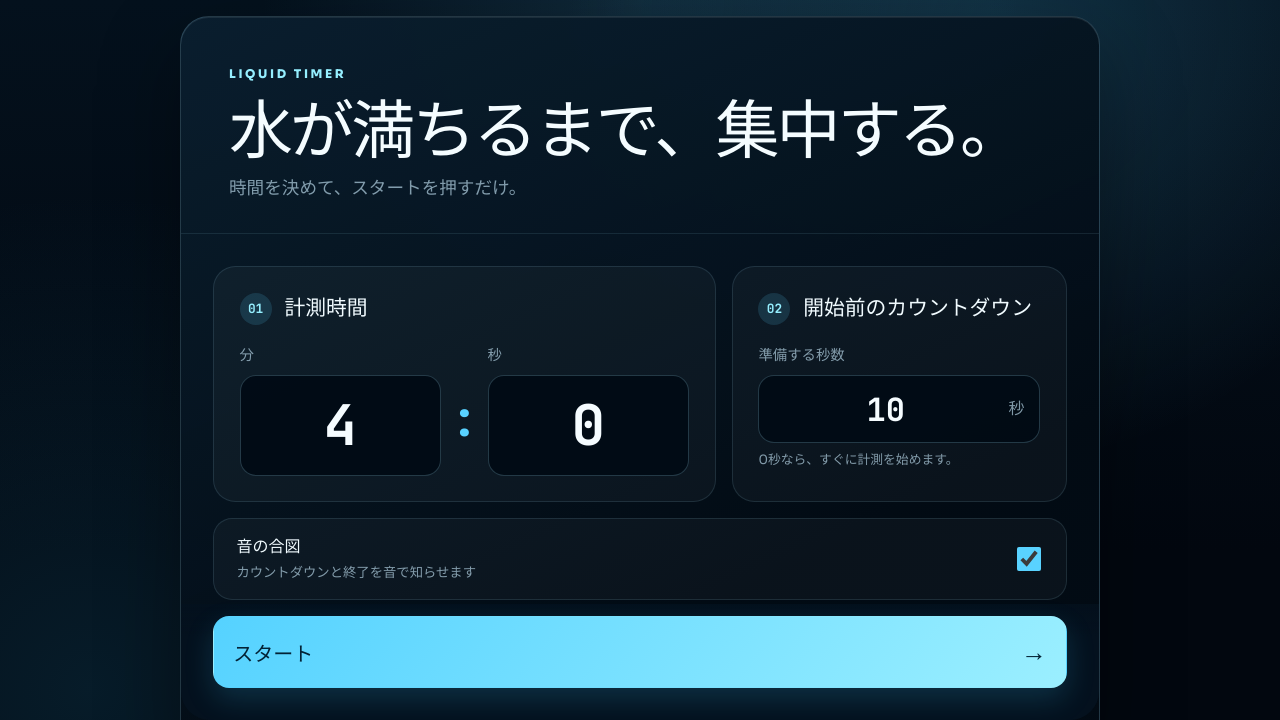
setup interactions › activates audio on pointer release after the setup screen has unmounted
Press the mouse on the button with class "startButton" at (273, 654), box [213,616,1067,688]
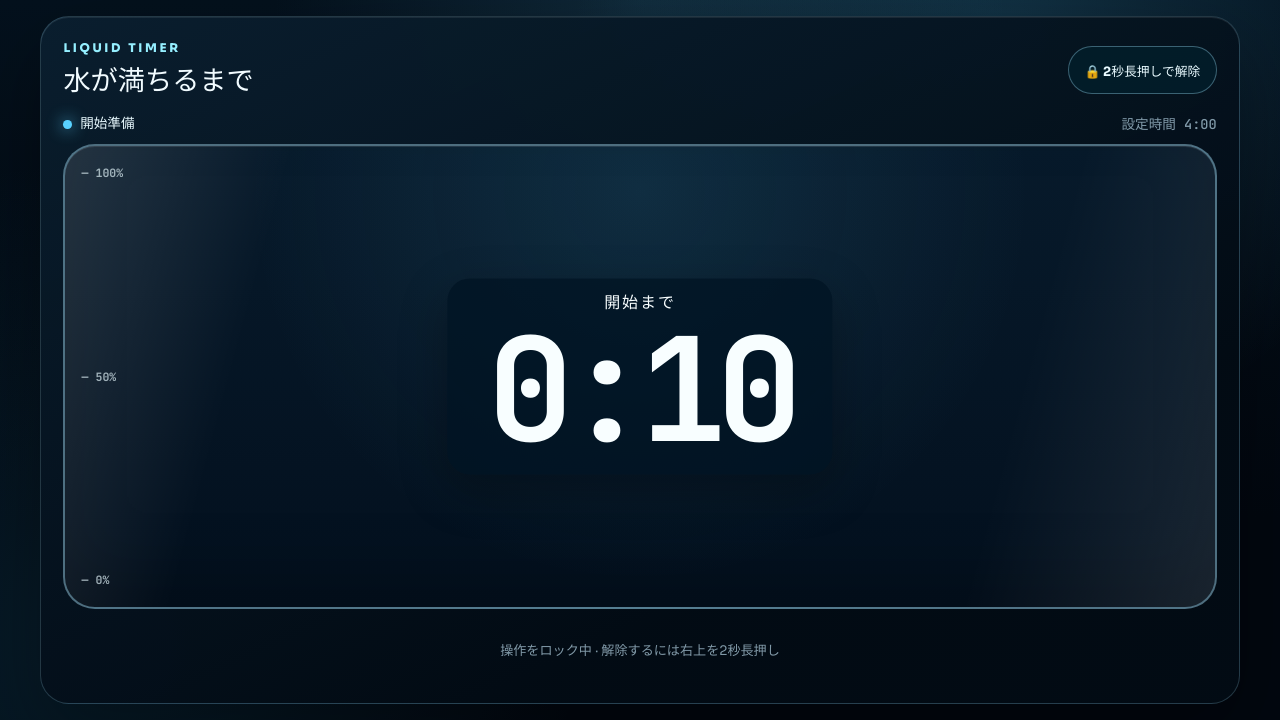
Expected: the element with class "runScreen" is shown
Expected: the text "開始準備" is shown, [63,114,135,135]
